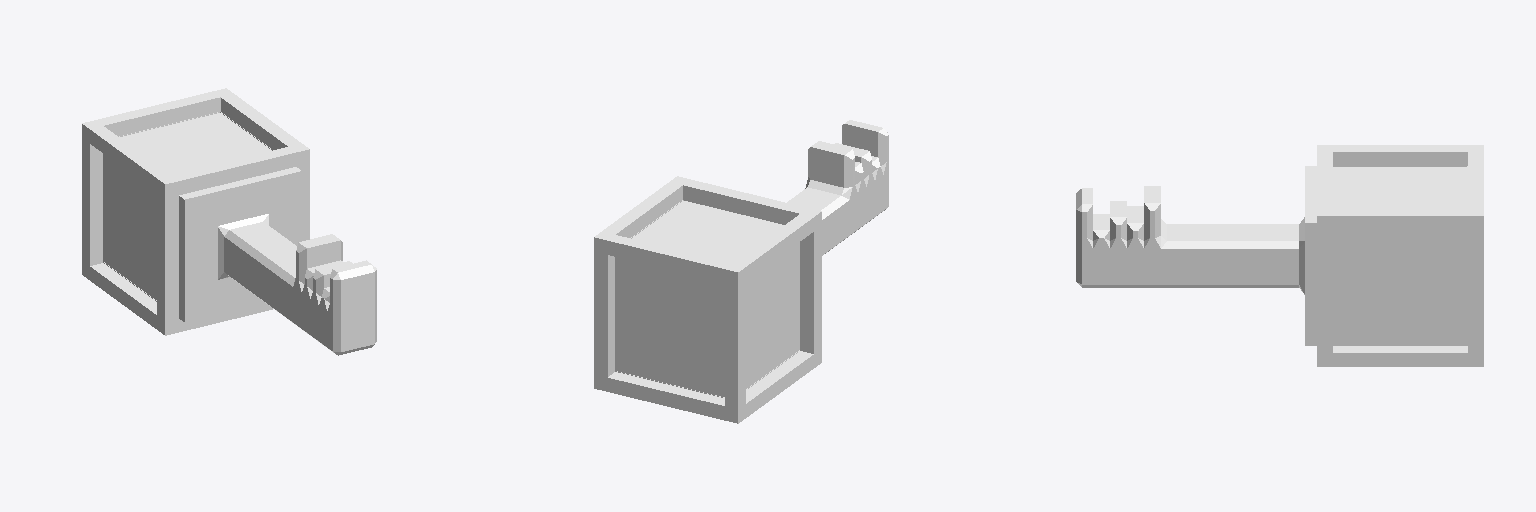
Rendered from key.obj.
3 views of the same model, side by side, from view 1: azimuth 30°, elevation 25°; view 2: azimuth 150°, elevation 25°; view 3: azimuth 270°, elevation 25° (orthographic).
Parts seen in each view (by area): view 1: Cube1; view 2: Cube1; view 3: Cube1.
Boxes of the visible parts, box(x1,y1,x2,y2) form: Cube1: box(82, 88, 376, 355); Cube1: box(594, 120, 888, 423); Cube1: box(1076, 145, 1483, 366).
Bounding box in the file's own units: 2 × 2 × 4.88.